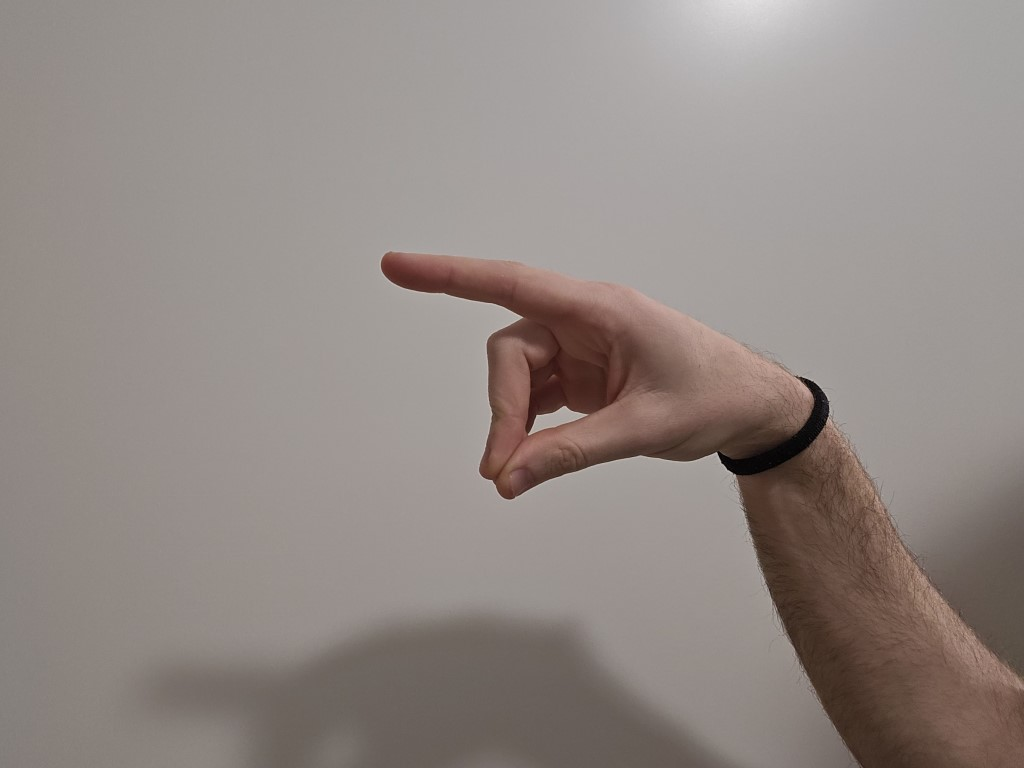p: (339, 223, 751, 511)
